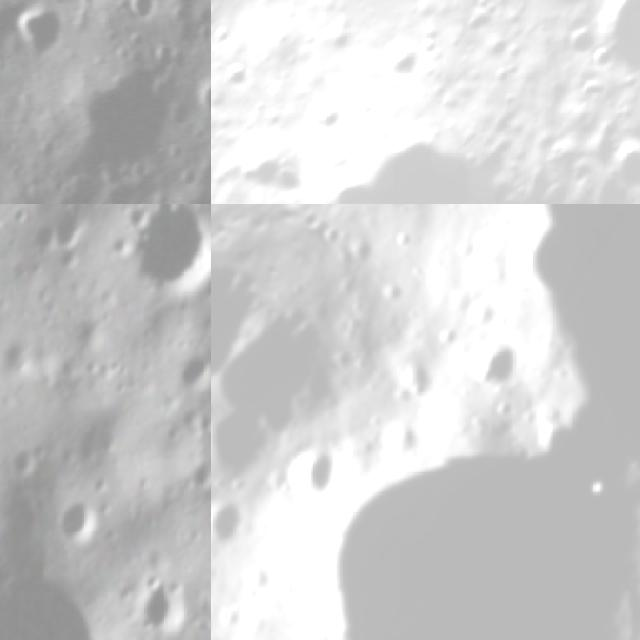crater: (211, 319, 640, 640), (233, 91, 640, 204), (214, 285, 366, 444), (536, 0, 640, 120), (0, 550, 124, 640), (212, 125, 323, 204), (122, 204, 211, 298), (211, 394, 288, 494), (278, 436, 353, 512), (460, 323, 534, 397), (133, 567, 199, 640), (211, 485, 261, 552), (49, 492, 104, 548), (395, 364, 448, 418), (46, 204, 97, 260), (382, 414, 435, 466), (165, 338, 211, 393), (4, 9, 59, 52), (0, 331, 46, 380), (269, 0, 348, 27), (70, 305, 108, 356), (0, 153, 20, 204), (126, 0, 154, 31), (211, 89, 227, 143), (189, 83, 211, 115), (211, 536, 217, 621), (385, 204, 433, 212)
